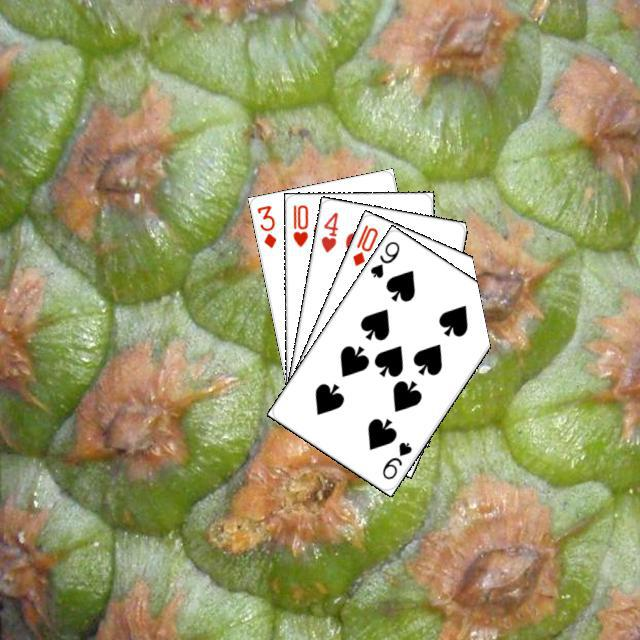10d: (348, 220, 380, 268)
10h: (288, 200, 310, 249)
3d: (252, 200, 278, 250)
4h: (316, 207, 340, 254)
9s: (377, 437, 414, 481), (365, 236, 401, 280)
